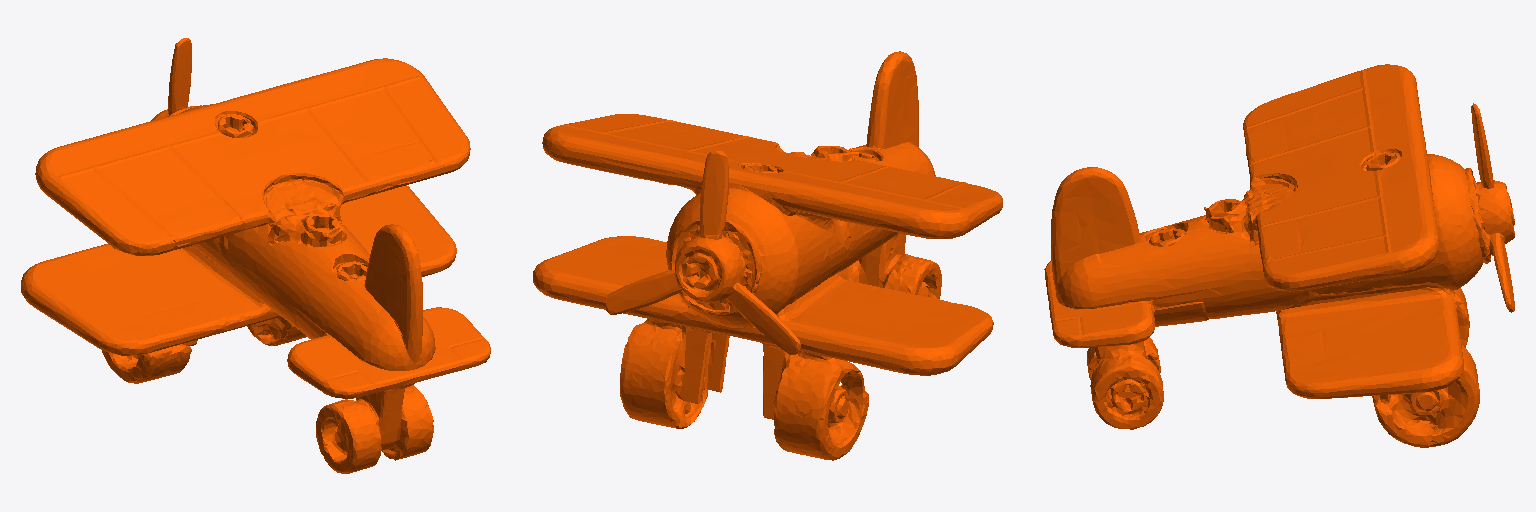
The robot description file, URDF, robot "072-a_toy_airplane":
<?xml version="1.0" ?>
<robot name="072-a_toy_airplane">
   <material name="obj_color">
      <color rgba="1.0 0.423529411765 0.0392156862745 1.0"/>
   </material>
   <link name="top">
      <inertial>
         <origin rpy="0.01052761824941867 0.01556402113284972 0.01850230269769435" xyz="-0.0003004529735709977 -9.304419632735112e-05 0.01666816130281333"/>
         <mass value="3.066579089301543"/>
         <inertia ixx="0.01554540169926294" ixy="0.0003031326940446369" ixz="4.080840380605278e-05" iyy="0.01073876935993847" iyz="-0.001222538188410007" izz="0.01830977102076133"/>
      </inertial>
      <visual>
         <origin rpy="0 0 0" xyz="0 0 0"/>
         <geometry>
            <mesh filename="top_watertight_tiny.stl" scale="1 1 1"/>
         </geometry>
         <material name="obj_color"/>
      </visual>
      <collision>
         <origin rpy="0 0 0" xyz="0 0 0"/>
         <geometry>
            <mesh filename="top_watertight_tiny.obj" scale="1 1 1"/>
         </geometry>
      </collision>
   </link>
   <link name="bottom">
      <inertial>
         <origin rpy="1.633333333199431e-08 1.633333333199431e-08 1.633333333362855e-08" xyz="0.3464080000000008 0.3464080000000008 0.3464080000000008"/>
         <mass value="0.0009800000000000017"/>
         <inertia ixx="1.633333333253906e-08" ixy="5.447480642029219e-19" ixz="5.447480642029219e-19" iyy="1.633333333253906e-08" iyz="5.447480642029219e-19" izz="1.633333333253906e-08"/>
      </inertial>
      <visual>
         <origin rpy="0 0 0" xyz="0 0 0"/>
         <geometry>
            <mesh filename="bottom_watertight_tiny.stl" scale="1 1 1"/>
         </geometry>
         <material name="obj_color"/>
      </visual>
   </link>
   <link name="world"/>
   <joint name="world_to_base" type="fixed">
      <origin xyz="0 0 0"/>
      <axis xyz="0 0 0"/>
      <parent link="world"/>
      <child link="bottom"/>
   </joint>
   <joint name="rotation" type="revolute">
      <origin xyz="0 0 0"/>
      <axis xyz="0 0 -1"/>
      <parent link="bottom"/>
      <child link="top"/>
      <dynamics damping="1.0" friction="1.0"/>
      <limit effort="0.1" velocity="0.1" lower="0" upper="0.001"/>
   </joint>
</robot>

--- What the picture shows (computed from the rendered views, not written in the file) ---
The picture shows the robot from 3 angles, left to right: view 1: azimuth 30°, elevation 25°; view 2: azimuth 150°, elevation 25°; view 3: azimuth 270°, elevation 25°; orthographic projection.
Robot: 072-a_toy_airplane — 3 links, 2 joints (1 revolute, 1 fixed); root link world; default pose: all joints at 0.
Visible links, largest first — view 1: top; view 2: top; view 3: top.
Link boxes in pixels (x1,y1,x2,y2): top: (21, 38, 490, 473); top: (533, 51, 1002, 460); top: (1044, 64, 1514, 447).
Bounding box of the posed robot: 0.2552 × 0.2629 × 0.1834 m (x, y, z).
Meshes: 2 distinct files referenced, 1 mesh visuals loaded (1 binary STL); not drawn: 1 (reference not matched to a file when rendering).
